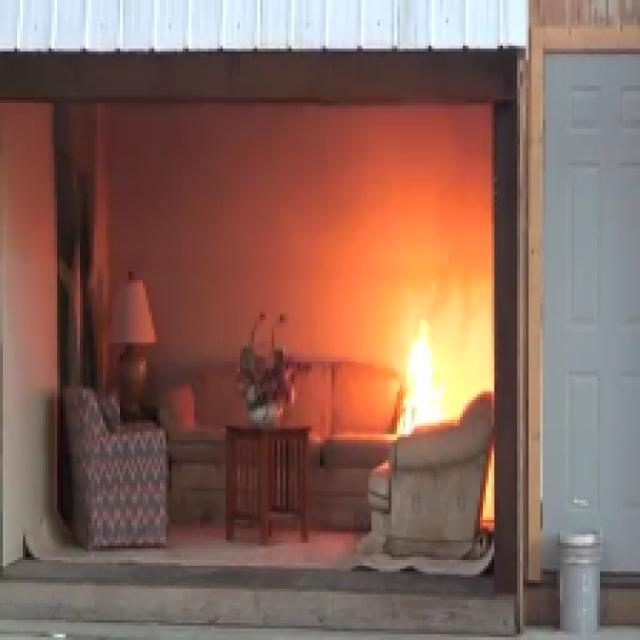Fire: (383, 315, 458, 443)
